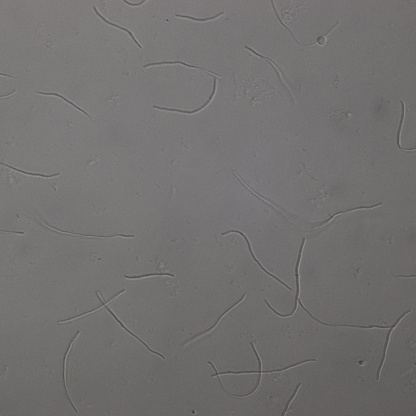Sensitive: (264, 237, 390, 330), (57, 289, 164, 359), (207, 338, 317, 398), (142, 60, 222, 115), (221, 230, 290, 288), (232, 170, 294, 224), (30, 209, 133, 240), (271, 1, 338, 48), (187, 294, 246, 345), (245, 46, 295, 103), (377, 310, 411, 379), (93, 7, 141, 48), (59, 331, 79, 411), (313, 203, 382, 226), (36, 91, 91, 117), (1, 159, 60, 180), (124, 268, 175, 283), (175, 10, 222, 22)
